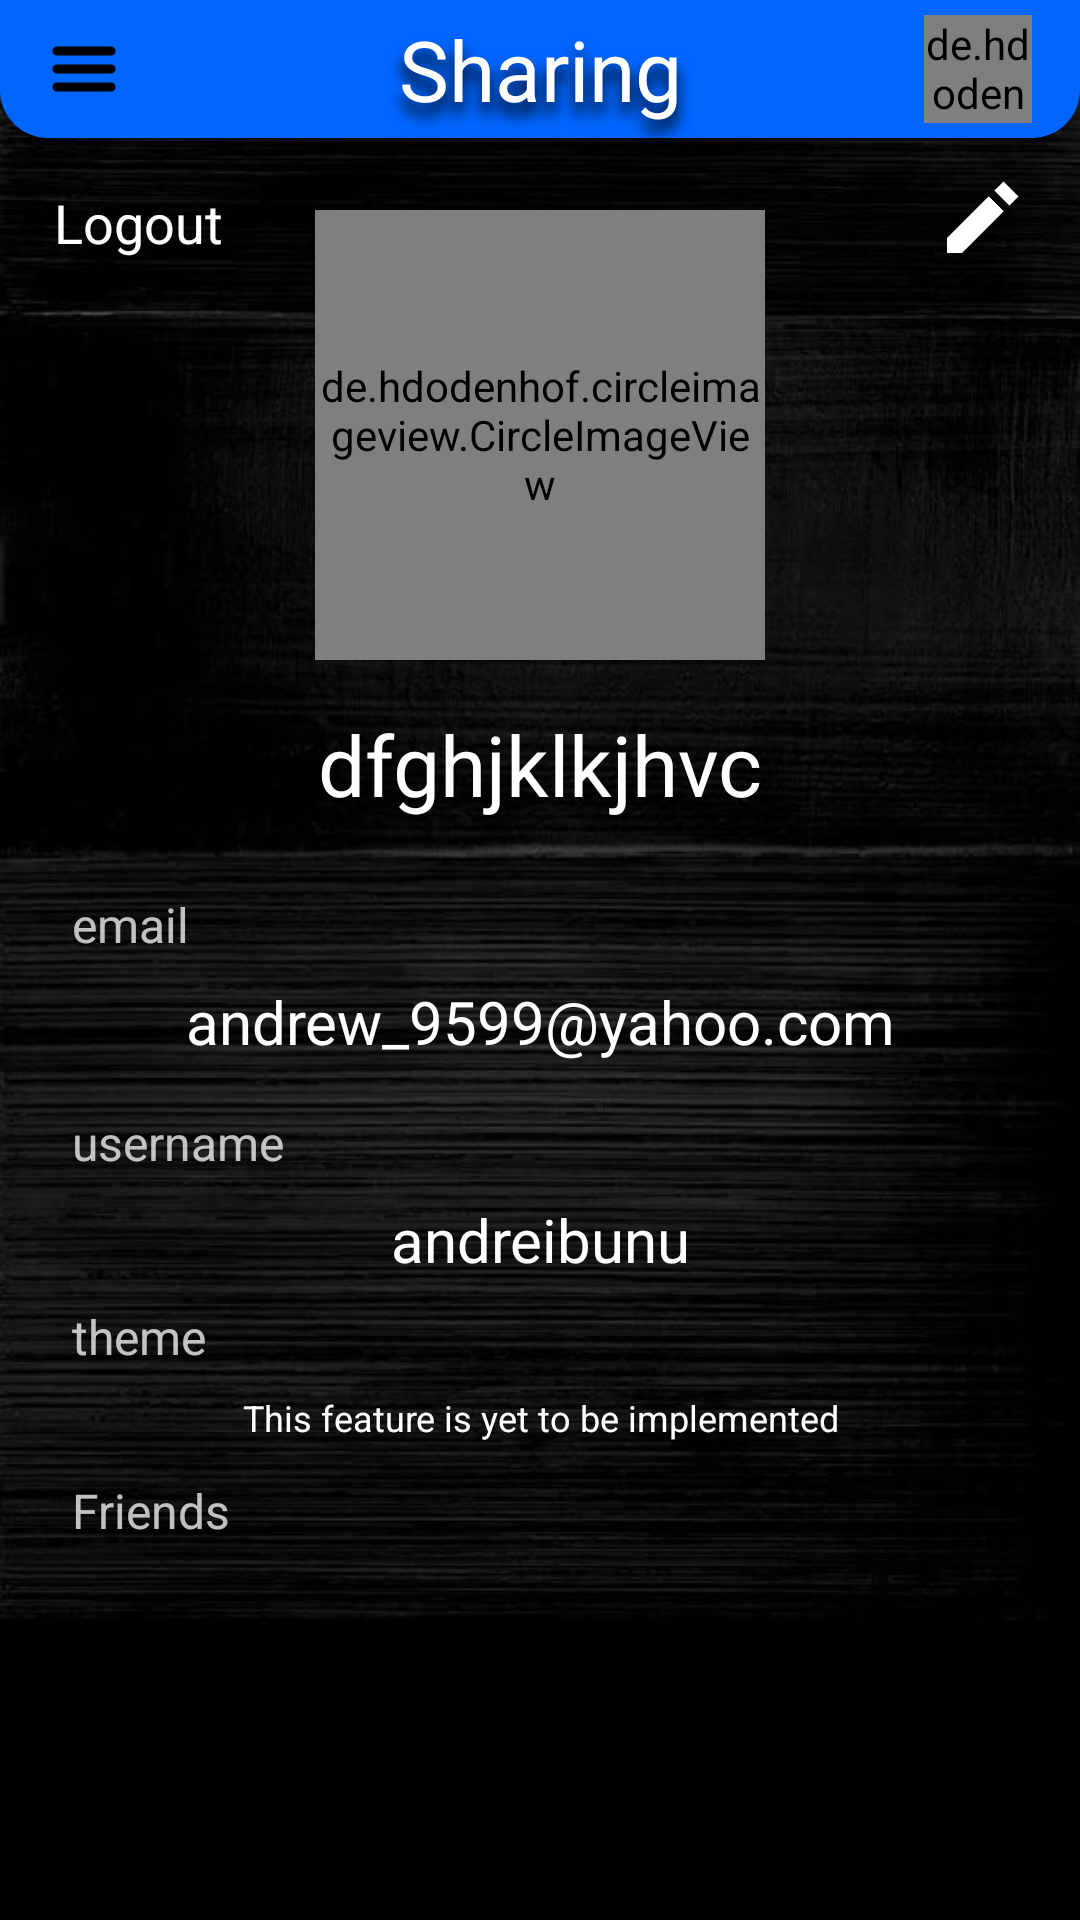

Icon click points for this 1080×1920 phone screenshot, format (x=x, y=y):
edit: (x=983, y=217)
Menu: (x=84, y=69)
